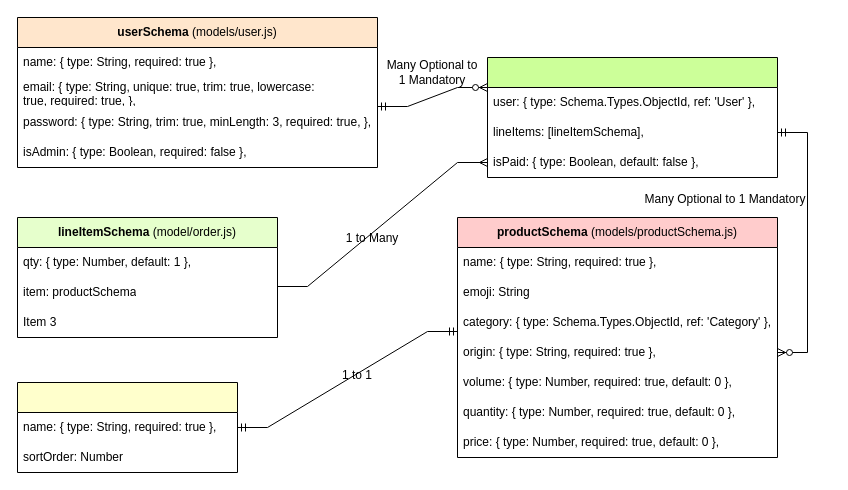
The diagram is 848 pixels wide and 490 high, and some of its shapes have lost their labels. The box of each missing label's shape, as (x1, y1, x2, y2) in pixels:
categorySchema (models/category.js): (16, 382, 238, 472)
orderSchema (model/order.js): (486, 56, 778, 178)
